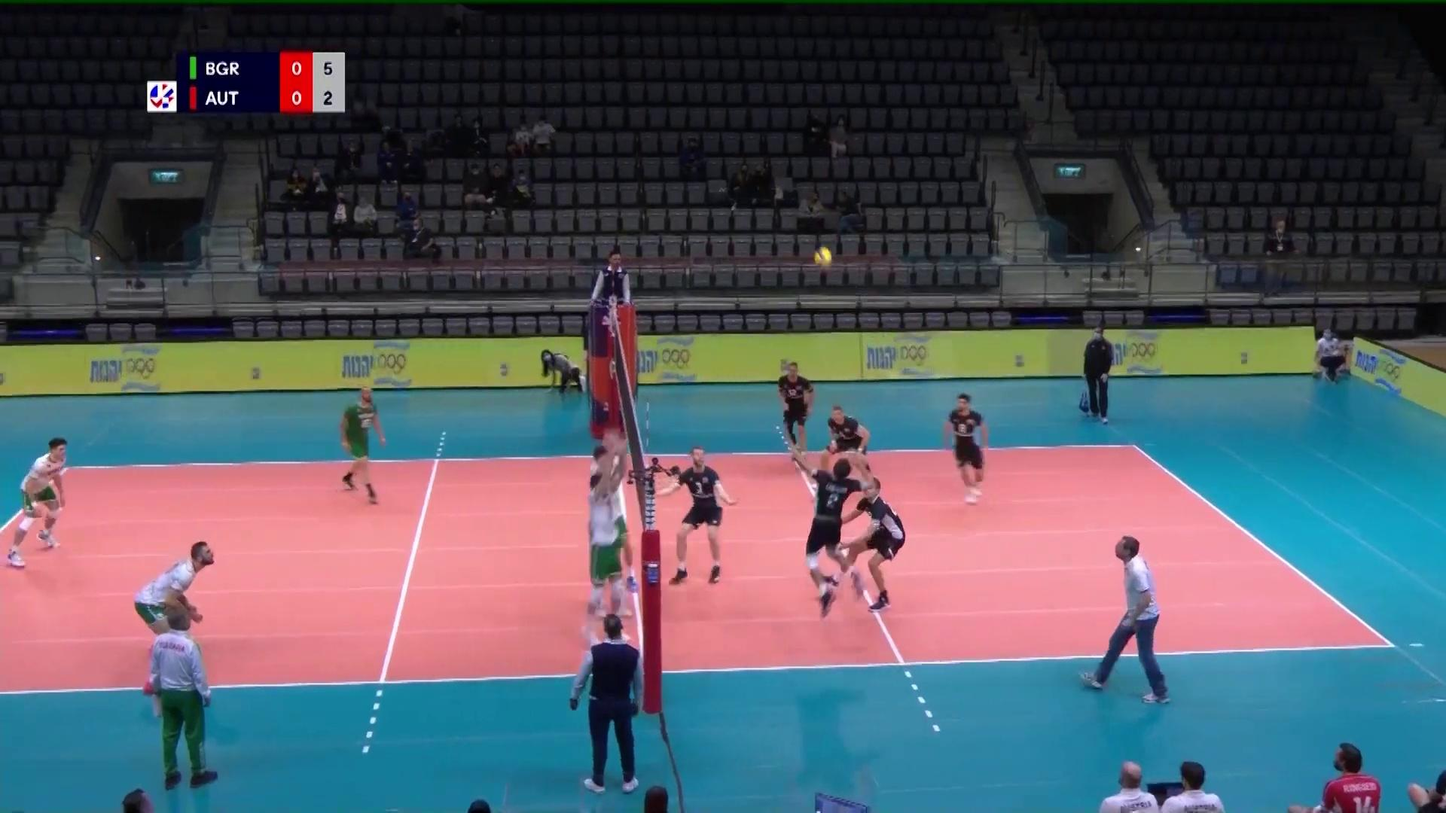ball: (814, 246, 832, 268)
